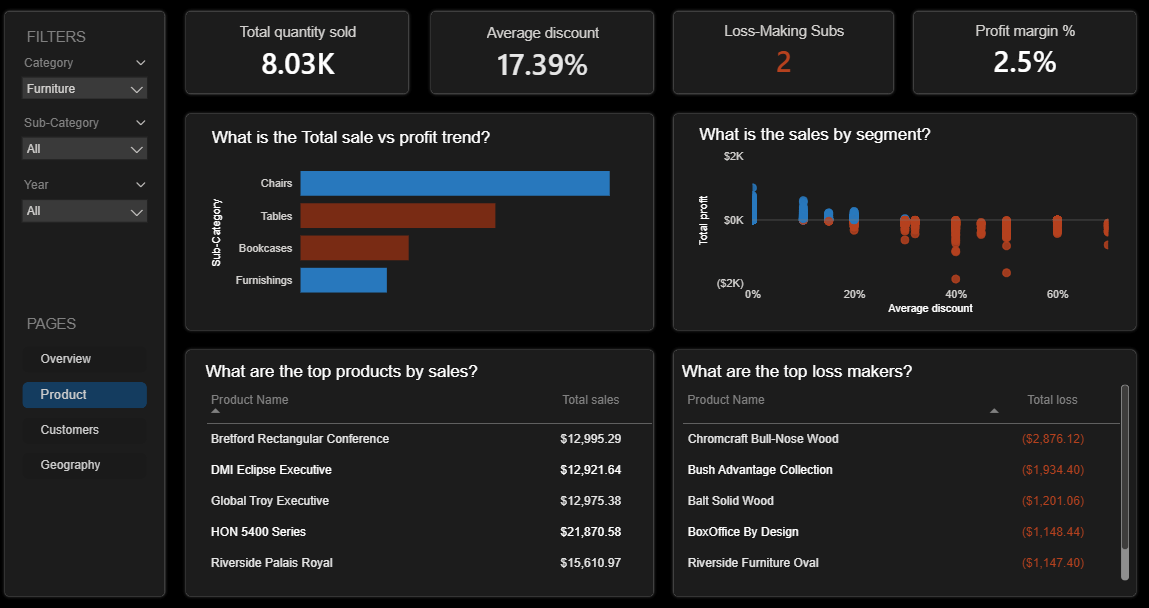

Layout of this report page (visuals, bound fields, positions):
{"tool":"powerbi","page":{"name":"Product","canvas":[1280,720],"ordinal":1},"visuals":[{"type":"shape","box":[11,52.1,183.9,650.4],"z":0},{"type":"shape","box":[209.9,52.1,252.5,98.8],"z":1000},{"type":"shape","box":[478.9,52.1,252.5,98.8],"z":2000},{"type":"shape","box":[745.1,52.1,249.7,98.8],"z":3000},{"type":"shape","box":[1008.6,52.1,252.5,98.8],"z":4000},{"type":"slicer","fields":{"Values":["Product_dim.Category"]},"box":[23.3,100.2,159.2,52.1],"z":5000},{"type":"slicer","fields":{"Values":["Product_dim.Sub-Category"]},"box":[23.3,166,159.2,59],"z":6000},{"type":"slicer","fields":{"Values":["date_dim.Order Date.Variation.Date Hierarchy.Year"]},"box":[23.3,234.6,159.2,60.4],"z":7000},{"type":"cardVisual","fields":{"Data":["Measures_.Total quantity sold"]},"box":[253.9,53.5,166,97.4],"z":9000},{"type":"cardVisual","fields":{"Data":["Measures_.Average discount"]},"box":[522.8,54.9,166,97.4],"z":10000},{"type":"cardVisual","fields":{"Data":["Measures_.Loss-Making Subs"]},"box":[787.7,52.1,166,97.4],"z":11000},{"type":"cardVisual","fields":{"Data":["Measures_.Profit margin %"]},"box":[1052.5,52.1,166,97.4],"z":12000},{"type":"shape","box":[209.9,164.7,521.4,245.6],"z":13000},{"type":"barChart","title":"What is the Total sale vs profit trend?","fields":{"Category":["Product_dim.Sub-Category"],"Y":["Measures_.Total sales"]},"box":[237.4,183.9,469.3,201.7],"z":14000},{"type":"shape","box":[745.1,164.7,516,245.6],"z":15000},{"type":"scatterChart","title":"What is the sales by segment?","fields":{"X":["Measures_.Average discount"],"Y":["Measures_.Total profit"],"Category":["Sales.Order Line"]},"box":[772.6,181.1,472,212.7],"z":16000},{"type":"shape","box":[209.9,424,521.4,278.6],"z":17000},{"type":"tableEx","title":"What are the top products by sales?","fields":{"Values":["Product_dim.Product_Name_Short","Measures_.Total sales"]},"box":[230.5,440.5,500.9,245.6],"z":18000},{"type":"shape","box":[745.1,424,516,278.6],"z":19000},{"type":"textbox","box":[34.3,71.4,82.3,28.8],"z":20000},{"type":"textbox","box":[34.3,385.6,82.3,28.8],"z":21000},{"type":"pageNavigator","box":[34.3,424,137.2,149.6],"z":22000},{"type":"tableEx","title":"What are the top loss makers?","fields":{"Values":["Product_dim.Product_Name_Short","Measures_.Total profit"]},"box":[753.3,440.5,500.9,245.6],"z":23000}]}

Visuals, with their boxes on the page's 1280x720 design canvas (x1, y1, x2, y2). These are canvas units, not pixel positions in the 1149x608 screenshot, which may show the page scaled, cropped or inside an application window:
shape: region(11, 52, 195, 702)
shape: region(210, 52, 462, 151)
shape: region(479, 52, 731, 151)
shape: region(745, 52, 995, 151)
shape: region(1009, 52, 1261, 151)
slicer - Product_dim.Category: region(23, 100, 182, 152)
slicer - Product_dim.Sub-Category: region(23, 166, 182, 225)
slicer - date_dim.Order Date.Variation.Date Hierarchy.Year: region(23, 235, 182, 295)
cardVisual - Measures_.Total quantity sold: region(254, 54, 420, 151)
cardVisual - Measures_.Average discount: region(523, 55, 689, 152)
cardVisual - Measures_.Loss-Making Subs: region(788, 52, 954, 150)
cardVisual - Measures_.Profit margin %: region(1052, 52, 1218, 150)
shape: region(210, 165, 731, 410)
"What is the Total sale vs profit trend?" barChart: region(237, 184, 707, 386)
shape: region(745, 165, 1261, 410)
"What is the sales by segment?" scatterChart: region(773, 181, 1245, 394)
shape: region(210, 424, 731, 703)
"What are the top products by sales?" tableEx: region(230, 440, 731, 686)
shape: region(745, 424, 1261, 703)
textbox: region(34, 71, 117, 100)
textbox: region(34, 386, 117, 414)
pageNavigator: region(34, 424, 172, 574)
"What are the top loss makers?" tableEx: region(753, 440, 1254, 686)
